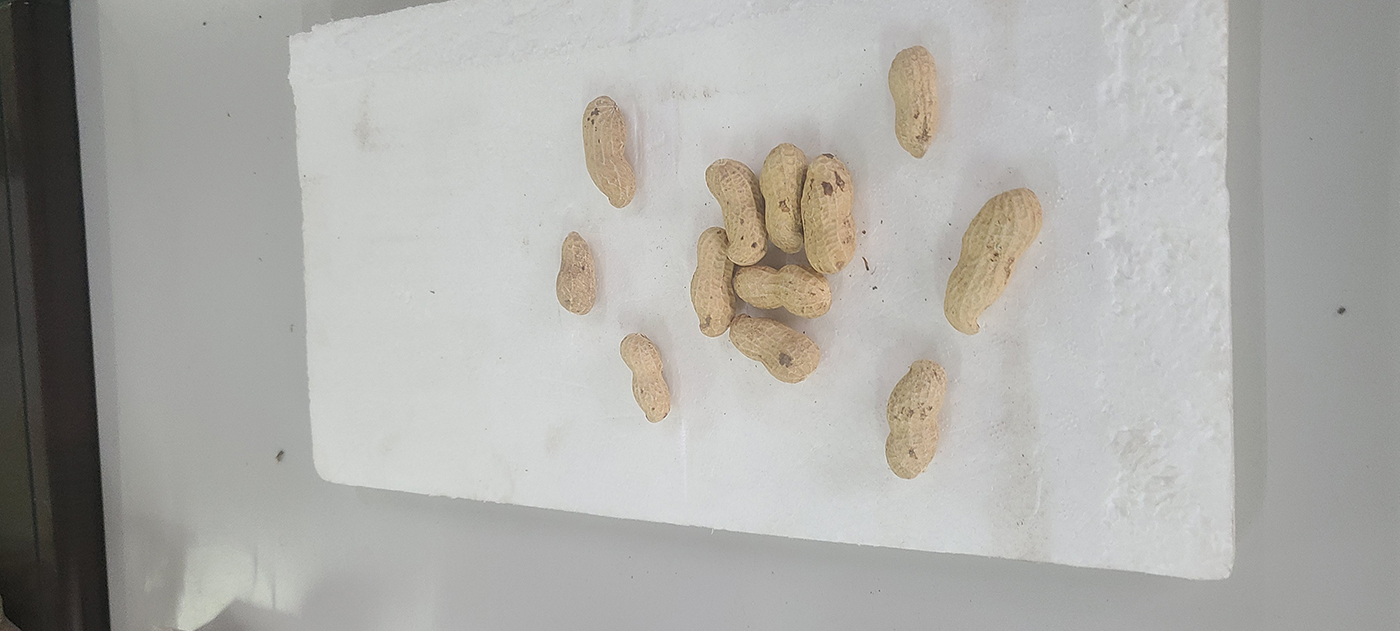h: (945, 189, 1042, 335), (886, 358, 947, 479), (800, 154, 856, 276), (705, 158, 768, 265), (730, 315, 820, 383), (582, 97, 636, 208), (887, 45, 938, 158), (761, 142, 808, 254), (733, 264, 831, 317), (690, 227, 737, 337), (620, 333, 672, 423), (556, 230, 597, 314)
